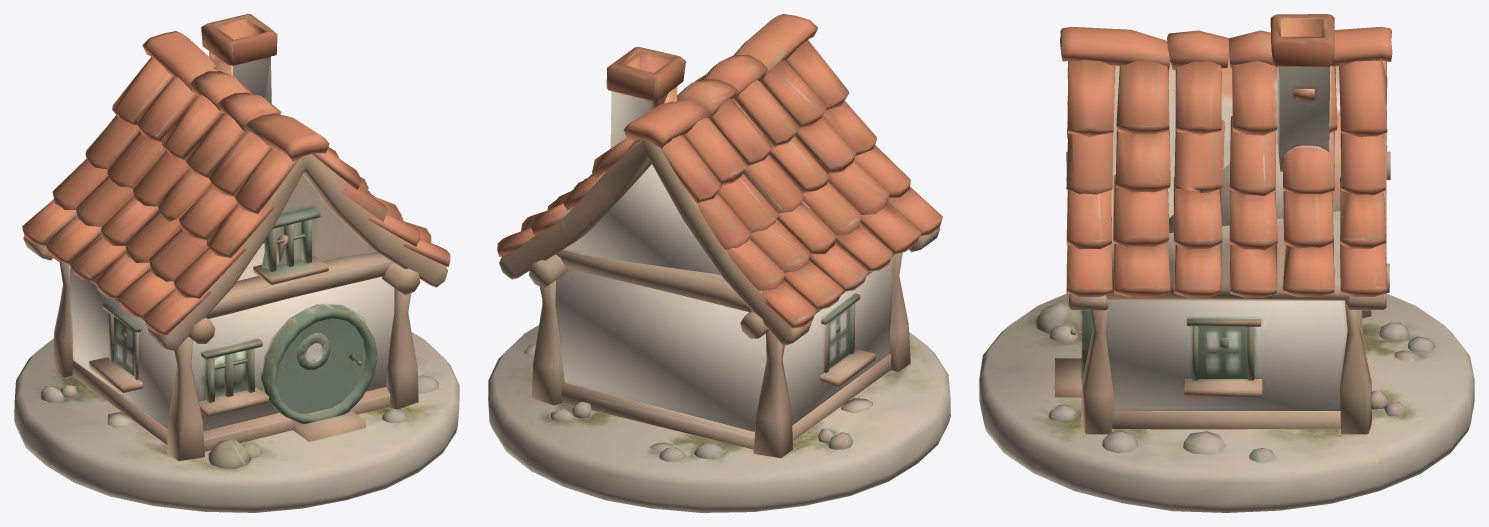
File: house.glb
3 views of the same model, side by side, from view 1: azimuth 30°, elevation 25°; view 2: azimuth 150°, elevation 25°; view 3: azimuth 270°, elevation 25° (orthographic). The views are drawn at different scales.
Bounding box in the file's own units: 1 × 0.8987 × 1.
Materials: 1 (1 with a texture image).
